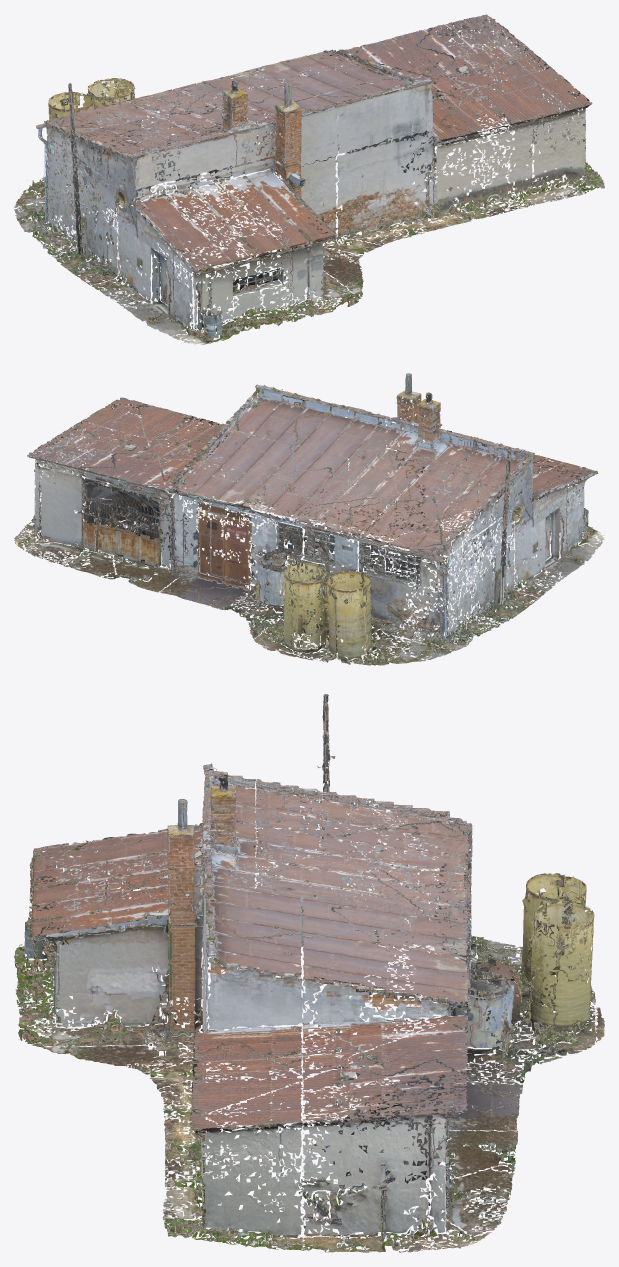
The model's file is casa_baixada3.glb.
3 renders of one model, top to bottom at view 1: azimuth 30°, elevation 25°; view 2: azimuth 150°, elevation 25°; view 3: azimuth 270°, elevation 25°, orthographic. The views are drawn at different scales.
Visible parts, largest first — view 1: hara_hara_u2_v1_0, hara_hara_u1_v2_0, hara_hara_u1_v1_0, hara_hara_u2_v2_0, hara_hara_u3_v1_0, hara_hara_u1_v3_0, hara_hara_u3_v2_0; view 2: hara_hara_u1_v1_0, hara_hara_u1_v3_0, hara_hara_u3_v2_0, hara_hara_u3_v1_0, hara_hara_u2_v2_0, hara_hara_u2_v1_0, hara_hara_u1_v2_0; view 3: hara_hara_u2_v2_0, hara_hara_u3_v1_0, hara_hara_u1_v3_0, hara_hara_u1_v2_0, hara_hara_u2_v1_0, hara_hara_u1_v1_0, hara_hara_u3_v2_0.
Boxes of the visible parts, <box> form: hara_hara_u2_v1_0: <box>26,67,604,296</box>; hara_hara_u1_v2_0: <box>57,80,361,344</box>; hara_hara_u1_v1_0: <box>19,83,274,285</box>; hara_hara_u2_v2_0: <box>117,14,550,338</box>; hara_hara_u3_v1_0: <box>14,67,599,254</box>; hara_hara_u1_v3_0: <box>117,52,383,189</box>; hara_hara_u3_v2_0: <box>176,15,556,178</box>; hara_hara_u1_v1_0: <box>292,444,539,650</box>; hara_hara_u1_v3_0: <box>160,373,534,661</box>; hara_hara_u3_v2_0: <box>14,421,323,638</box>; hara_hara_u3_v1_0: <box>83,388,452,665</box>; hara_hara_u2_v2_0: <box>18,420,593,588</box>; hara_hara_u2_v1_0: <box>82,384,516,647</box>; hara_hara_u1_v2_0: <box>254,444,604,653</box>; hara_hara_u2_v2_0: <box>24,825,515,1252</box>; hara_hara_u3_v1_0: <box>145,869,595,1249</box>; hara_hara_u1_v3_0: <box>167,763,604,1130</box>; hara_hara_u1_v2_0: <box>14,823,595,1050</box>; hara_hara_u2_v1_0: <box>32,827,476,1250</box>; hara_hara_u1_v1_0: <box>255,694,477,1000</box>; hara_hara_u3_v2_0: <box>302,914,582,1252</box>.
Bounding box in the file's own units: 19.21 × 6.81 × 14.87.
7 materials, 7 textured.
